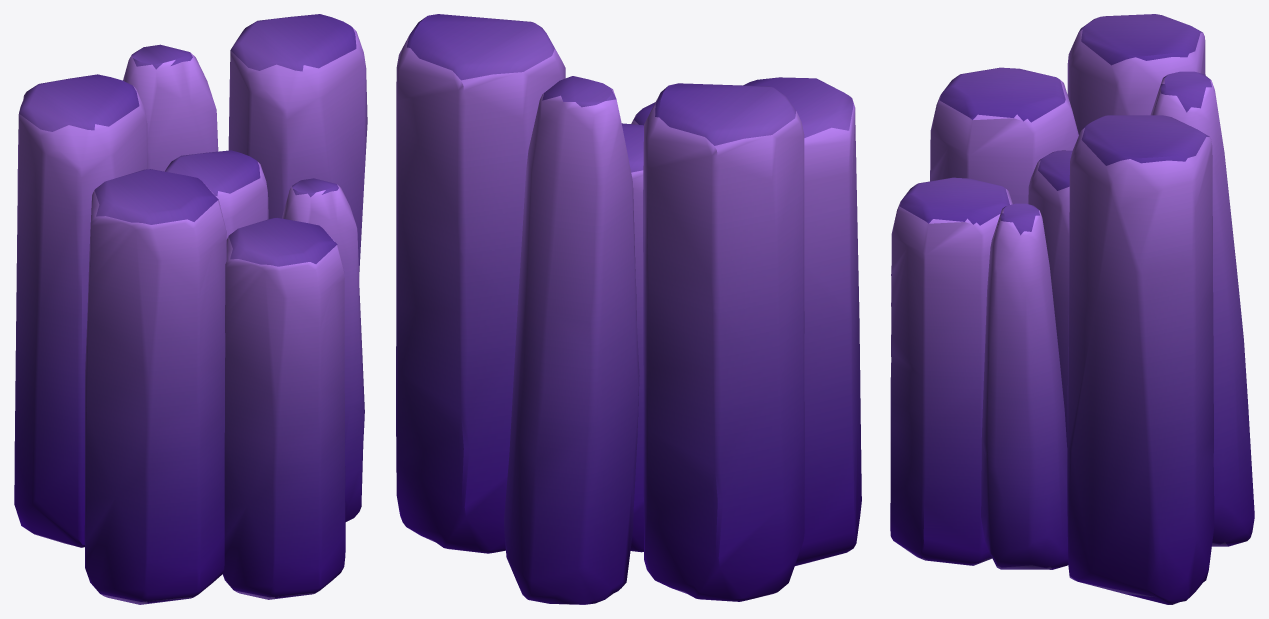
Rendered from SM_crystal_flat_group_01.glb.
3 views of the same model, side by side, from view 1: azimuth 30°, elevation 25°; view 2: azimuth 150°, elevation 25°; view 3: azimuth 270°, elevation 25° (orthographic). The views are drawn at different scales.
Visible parts, largest first — view 1: SM_crystal_flat_group_01; view 2: SM_crystal_flat_group_01; view 3: SM_crystal_flat_group_01.
Boxes of the visible parts, bbox=[...] form: SM_crystal_flat_group_01: bbox=[14, 14, 367, 604]; SM_crystal_flat_group_01: bbox=[396, 14, 861, 604]; SM_crystal_flat_group_01: bbox=[890, 14, 1254, 604].
Size of the model in its own units: 3.5 by 4.4 by 3.11.
1 material, 1 textured.
